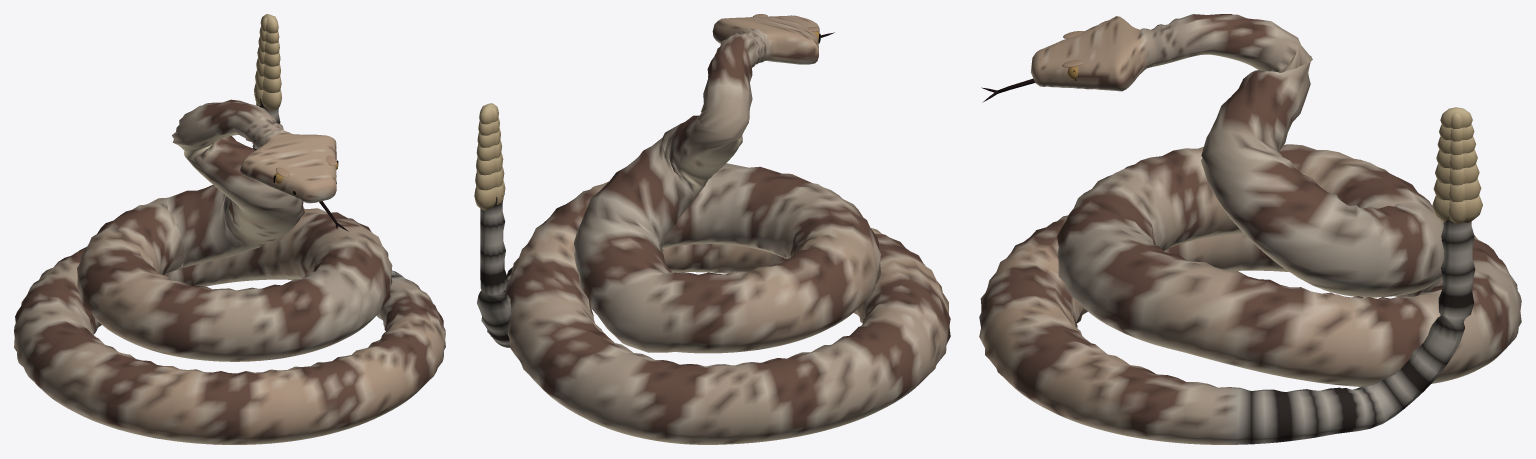
File: SpeckledRattlesnake.fbx
The picture shows the model from 3 angles, left to right: view 1: azimuth 30°, elevation 25°; view 2: azimuth 150°, elevation 25°; view 3: azimuth 270°, elevation 25°; orthographic projection. The views are drawn at different scales.
Visible parts, largest first — view 1: SpeckledRattlesnake; view 2: SpeckledRattlesnake; view 3: SpeckledRattlesnake.
Part boxes in pixels (box(x1,y1,x2,y2)): SpeckledRattlesnake: box(14, 14, 445, 444); SpeckledRattlesnake: box(474, 14, 950, 444); SpeckledRattlesnake: box(979, 14, 1521, 444).
Bounding box in the file's own units: 0.507 × 0.3608 × 0.5185.
